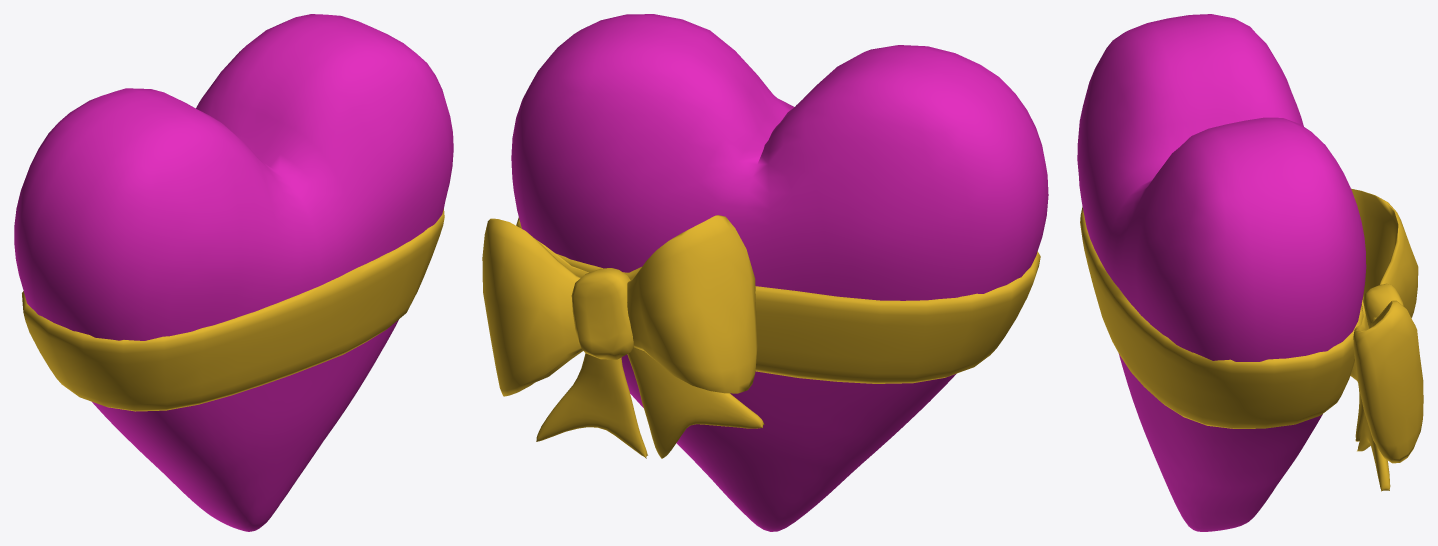
Rendered from heart_with_bow FBX.glb.
3 views of the same model, side by side, from view 1: azimuth 30°, elevation 25°; view 2: azimuth 150°, elevation 25°; view 3: azimuth 270°, elevation 25° (orthographic). The views are drawn at different scales.
Visible parts, largest first — view 1: Hb2, heart_with_bow; view 2: Hb2, Hb3, heart_with_bow, Hb4, Hb5; view 3: Hb2, heart_with_bow, Hb3, Hb4, Hb5.
Part boxes in pixels (bbox=[...]): Hb2: bbox=[14, 14, 453, 531]; heart_with_bow: bbox=[22, 209, 444, 411]; Hb2: bbox=[511, 14, 1048, 531]; Hb3: bbox=[482, 215, 757, 396]; heart_with_bow: bbox=[516, 217, 1040, 383]; Hb4: bbox=[536, 347, 764, 458]; Hb5: bbox=[571, 268, 633, 359]; Hb2: bbox=[1077, 14, 1366, 531]; heart_with_bow: bbox=[1080, 206, 1363, 428]; Hb3: bbox=[1351, 188, 1423, 463]; Hb4: bbox=[1350, 361, 1390, 491]; Hb5: bbox=[1363, 283, 1403, 328].
Size of the model in its own units: 0.447 by 0.4399 by 0.3074.
